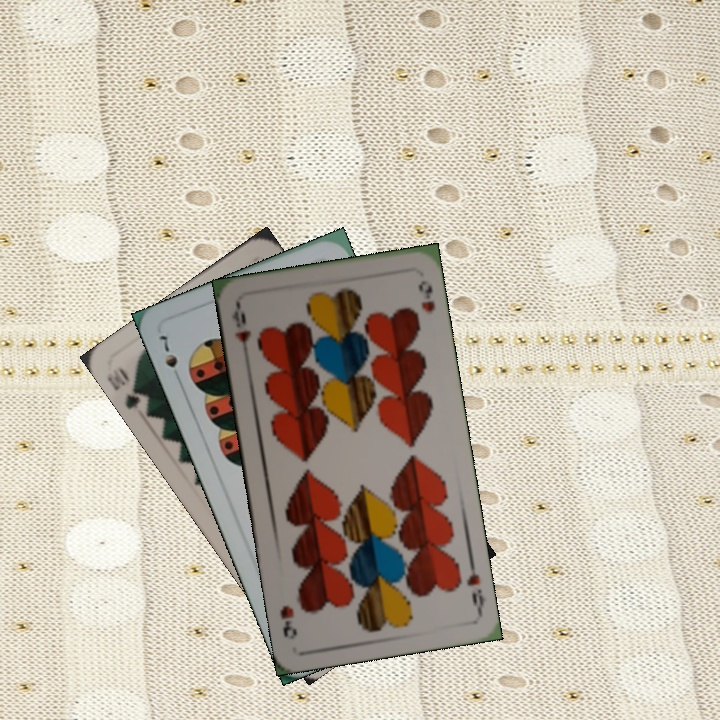G10: (103, 364, 149, 412)
H9: (228, 301, 253, 360), (463, 557, 488, 616)
S7: (153, 331, 181, 371)
